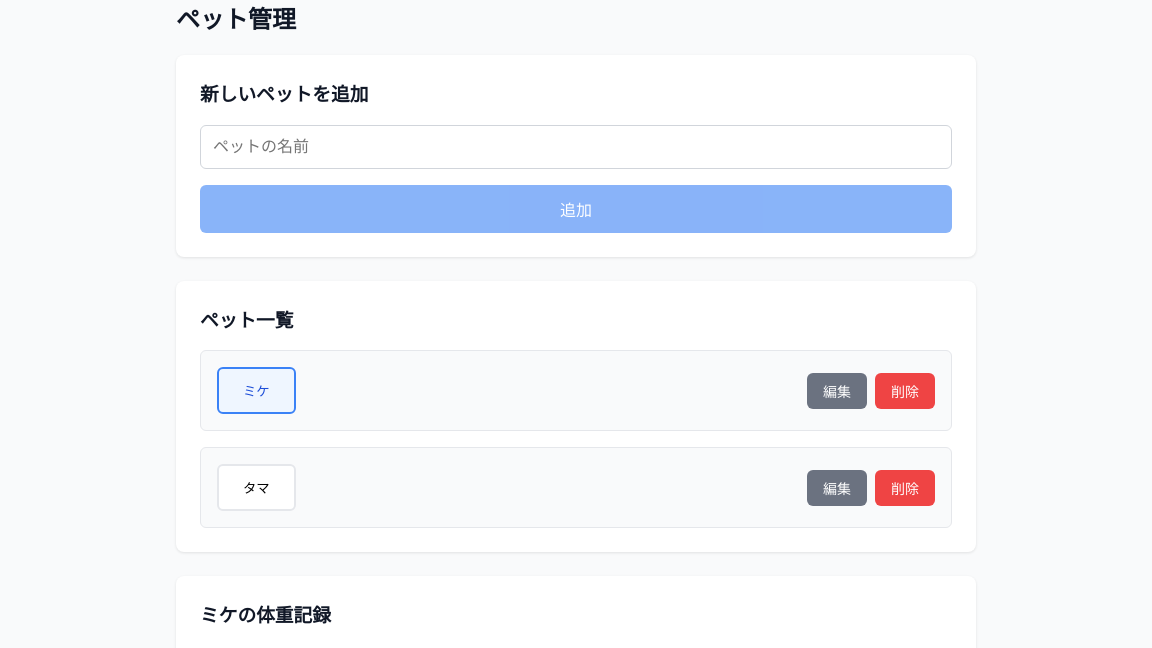
Test: PetManagement › Pet Deletion › should delete pet when confirmed
Check: the button "ミケ" is shown, box left=217, top=367, right=296, bottom=414
Click the 1st button "削除": (905, 391) left=875, top=373, right=935, bottom=409
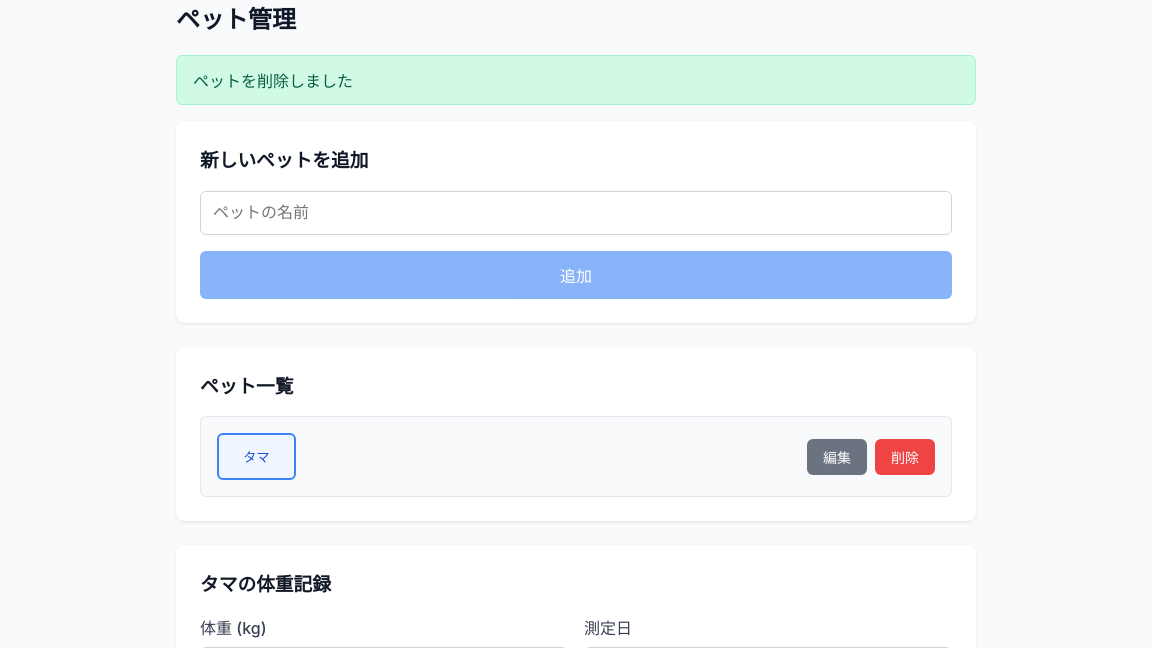
Check: the text "ペットを削除しました" is shown, box left=176, top=55, right=976, bottom=105
